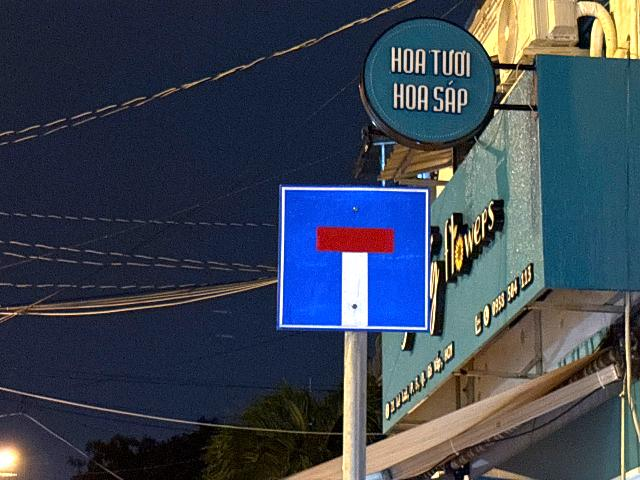duong-cut: (278, 183, 430, 331)
